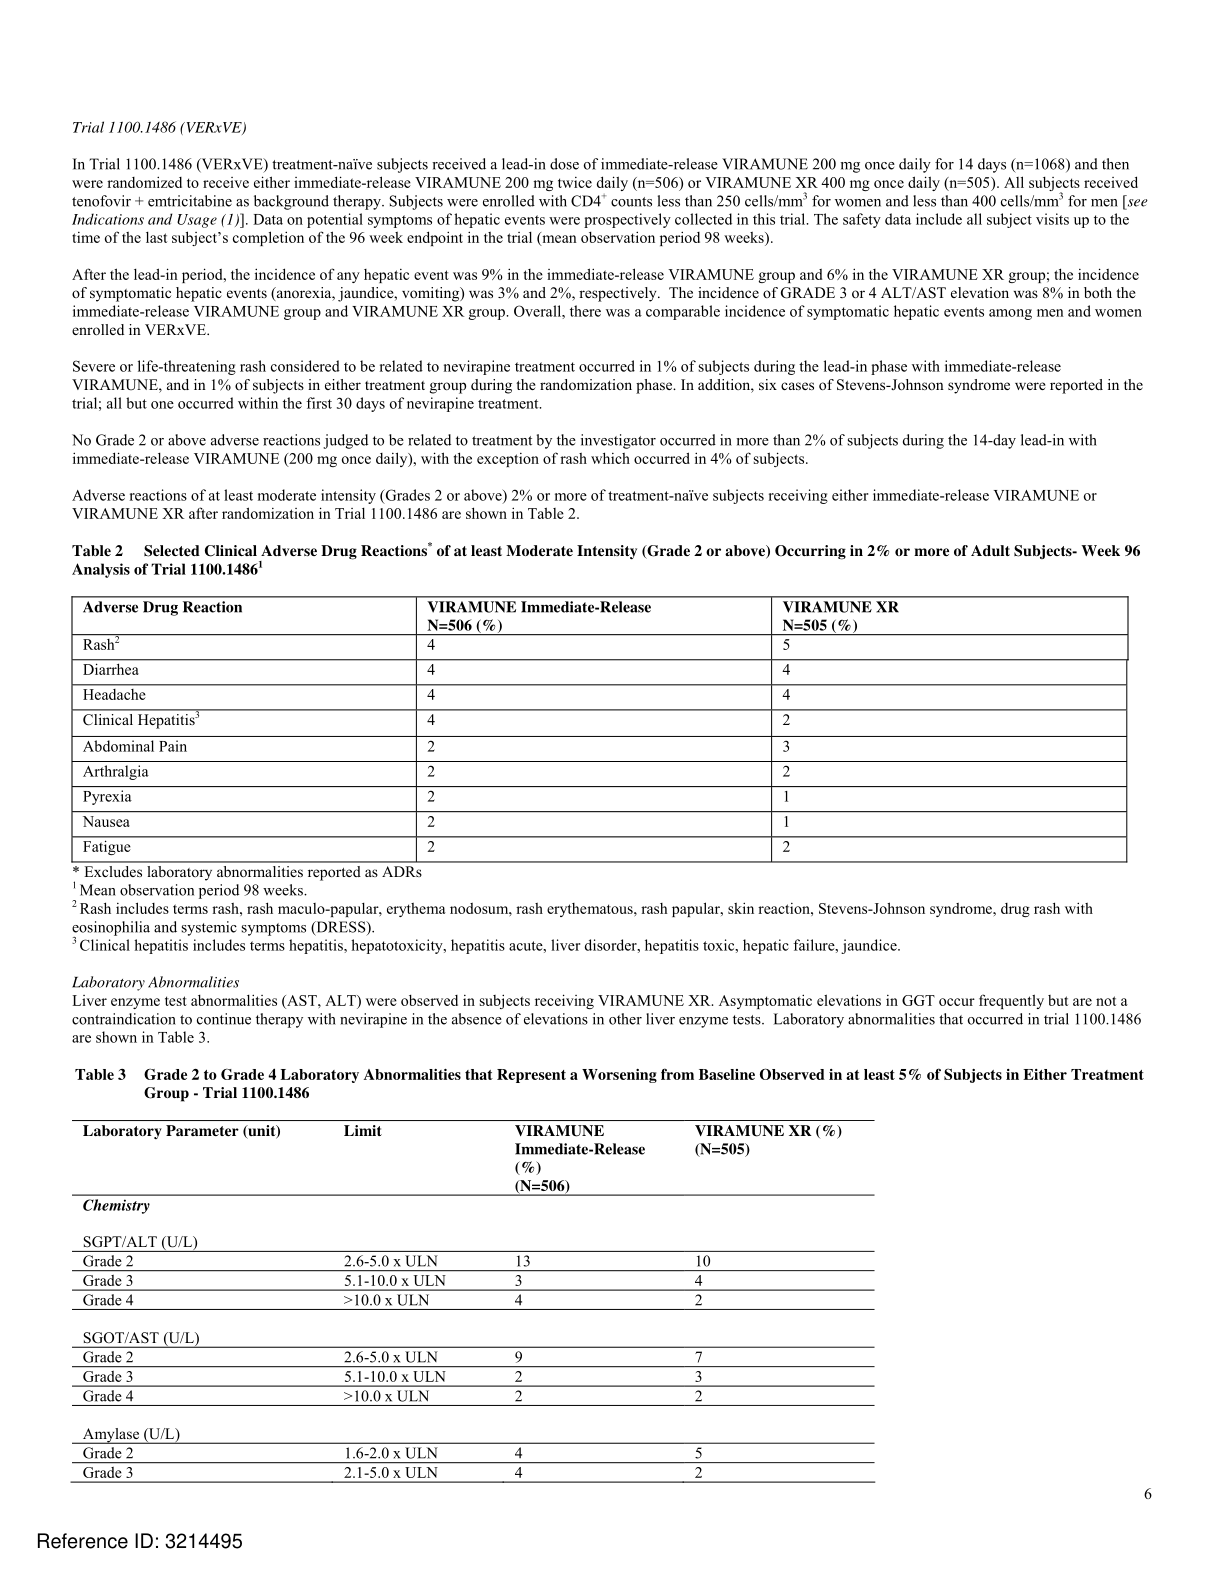full_lined: (69, 591, 1131, 867)
partial_lined: (69, 1117, 877, 1485)
